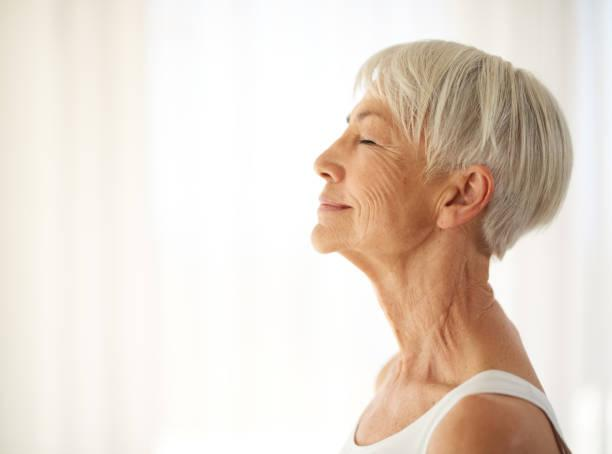Dry-Skin: (351, 148, 421, 234)
